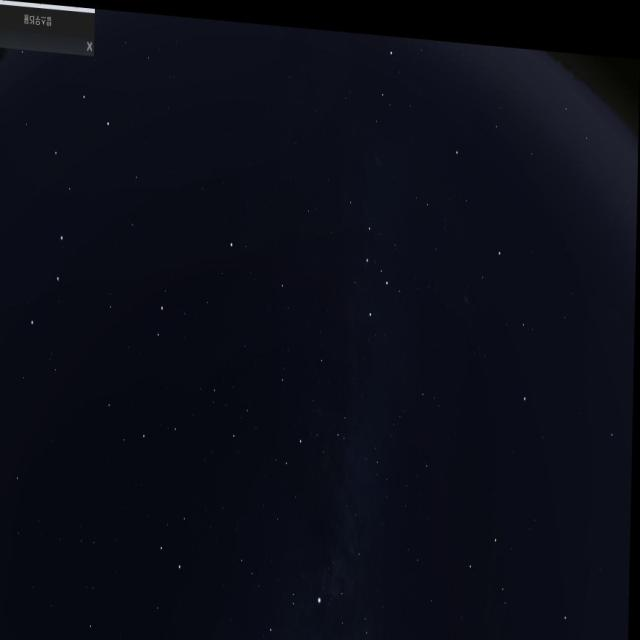cassiopeia: (338, 173, 404, 324)
ursa_major: (26, 69, 116, 348)
